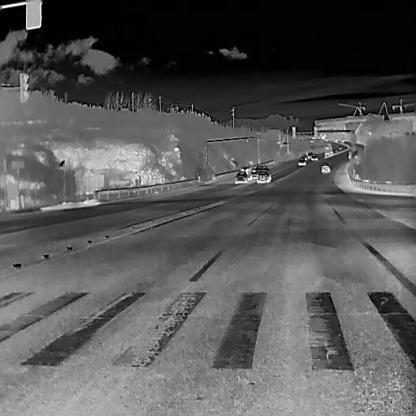car: (256, 167, 270, 182), (234, 170, 248, 184), (321, 162, 330, 174), (250, 167, 258, 179), (297, 157, 306, 166), (255, 164, 263, 174), (310, 153, 318, 161), (300, 153, 308, 161), (306, 151, 312, 159), (353, 150, 358, 158), (338, 145, 342, 150), (334, 148, 338, 153), (323, 136, 327, 141), (333, 138, 337, 142), (340, 138, 344, 142)
truck: (238, 166, 254, 180), (323, 142, 332, 156)
